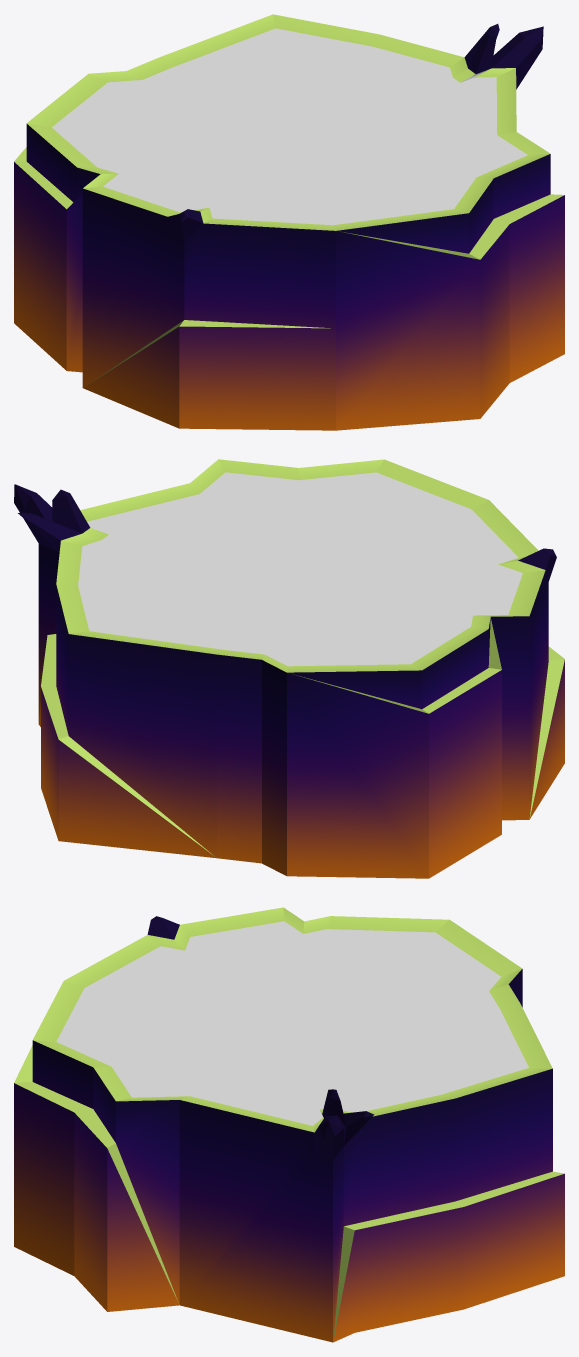
File: MOD_Platform_Midden.fbx
3 views of the same model, one above another, from view 1: azimuth 30°, elevation 25°; view 2: azimuth 150°, elevation 25°; view 3: azimuth 270°, elevation 25° (orthographic). The views are drawn at different scales.
Visible parts, largest first — view 1: MOD_Platform_Hoog; view 2: MOD_Platform_Hoog; view 3: MOD_Platform_Hoog.
Boxes of the visible parts, x1,y1,x2,y2 form: MOD_Platform_Hoog: (14,14,564,430); MOD_Platform_Hoog: (14,459,564,878); MOD_Platform_Hoog: (14,907,564,1342).
Bounding box in the file's own units: 7.34 × 3.42 × 7.05.
